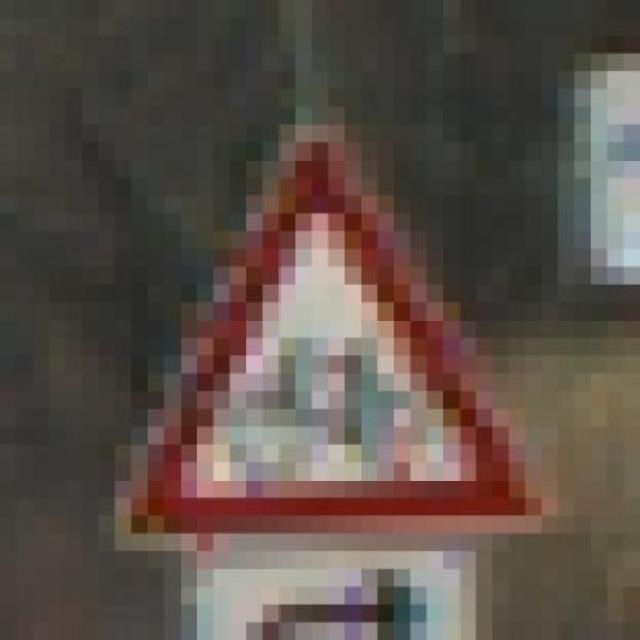CYCLE ROUTE AHEAD WARNING: (99, 71, 558, 551)
